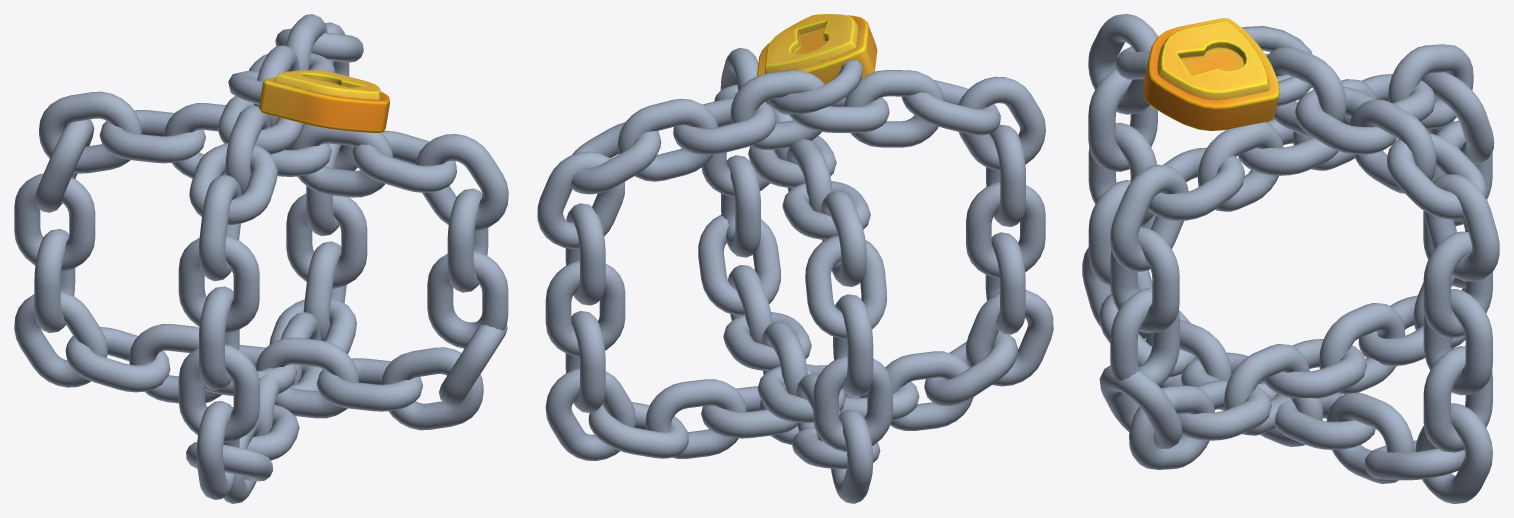
File: Chain_Block_03.fbx
3 renders of one model, left to right at view 1: azimuth 30°, elevation 25°; view 2: azimuth 150°, elevation 25°; view 3: azimuth 270°, elevation 25°, orthographic. The views are drawn at different scales.
Parts seen in each view (by area): view 1: Chain; view 2: Chain; view 3: Chain.
Boxes of the visible parts, box(x1,y1,x2,y2) form: Chain: box(14, 14, 508, 503); Chain: box(537, 14, 1053, 503); Chain: box(1082, 14, 1499, 503).
Bounding box in the file's own units: 1.55 × 1.74 × 1.6.
Materials: 1 (1 with a texture image).
